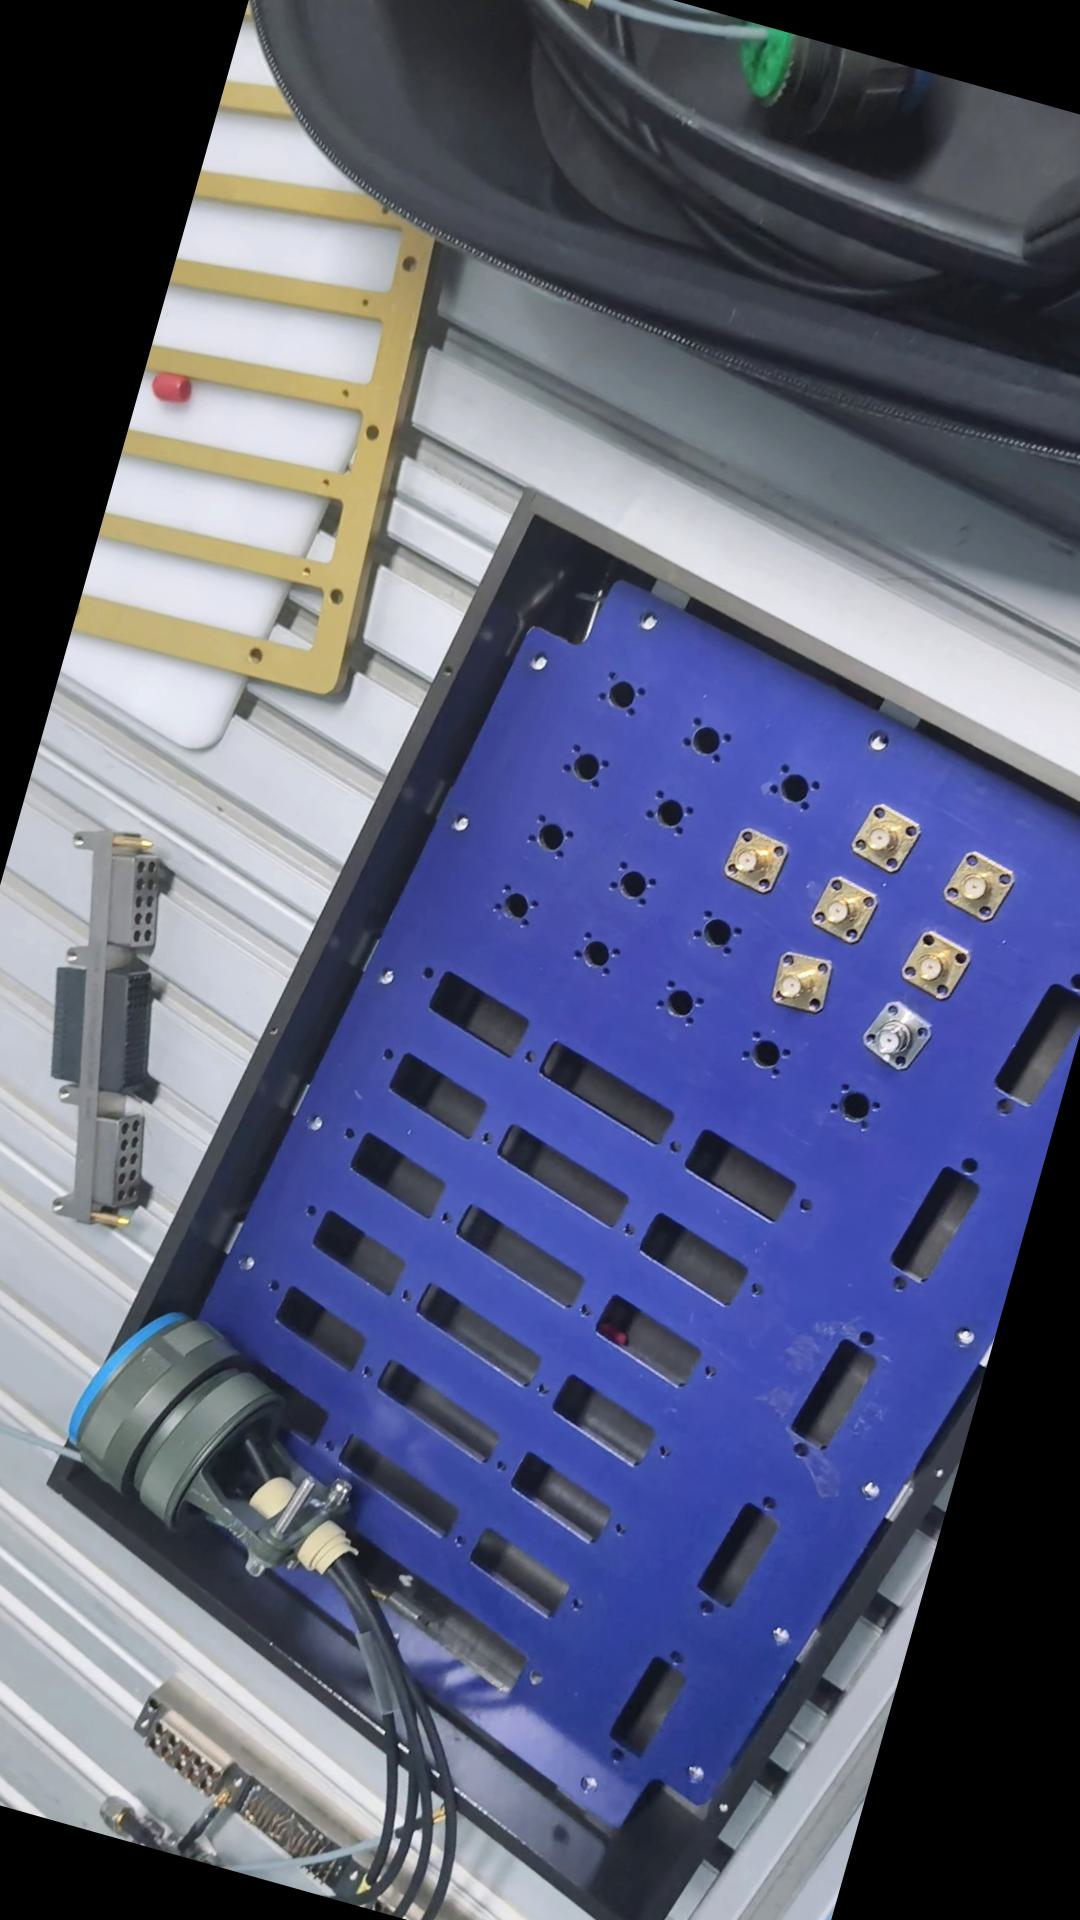SMA: (851, 988, 938, 1077), (887, 920, 972, 1001), (800, 866, 884, 947), (938, 847, 1018, 927), (756, 942, 836, 1019), (843, 798, 920, 876), (712, 825, 789, 899)
